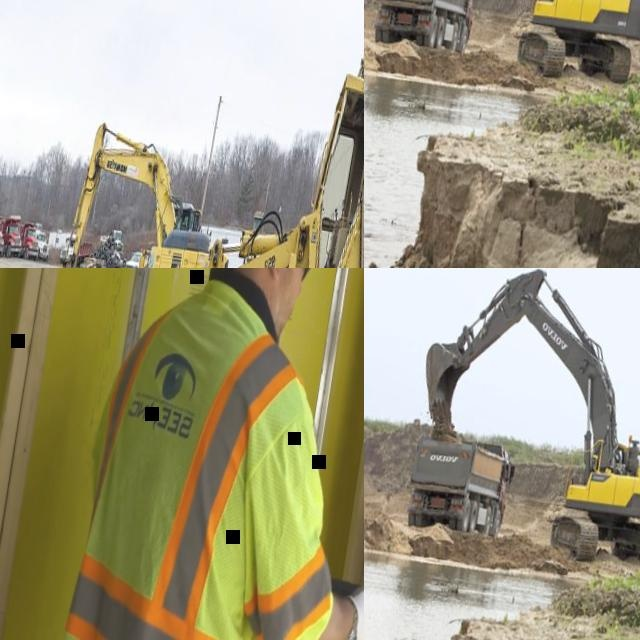Hardhat: (143, 249, 145, 253)
NO-Mask: (263, 268, 304, 343)
Person: (44, 268, 364, 640), (135, 248, 147, 268)
Safety Vest: (53, 275, 364, 640), (138, 255, 144, 268)
machinery: (397, 268, 640, 578), (96, 39, 364, 268), (51, 119, 247, 268), (364, 0, 640, 94), (401, 429, 519, 542), (368, 0, 486, 58), (0, 211, 26, 259), (58, 233, 93, 268), (14, 221, 42, 262), (30, 221, 53, 260), (98, 227, 126, 256), (0, 211, 8, 258)
vehicle: (124, 244, 152, 268)
